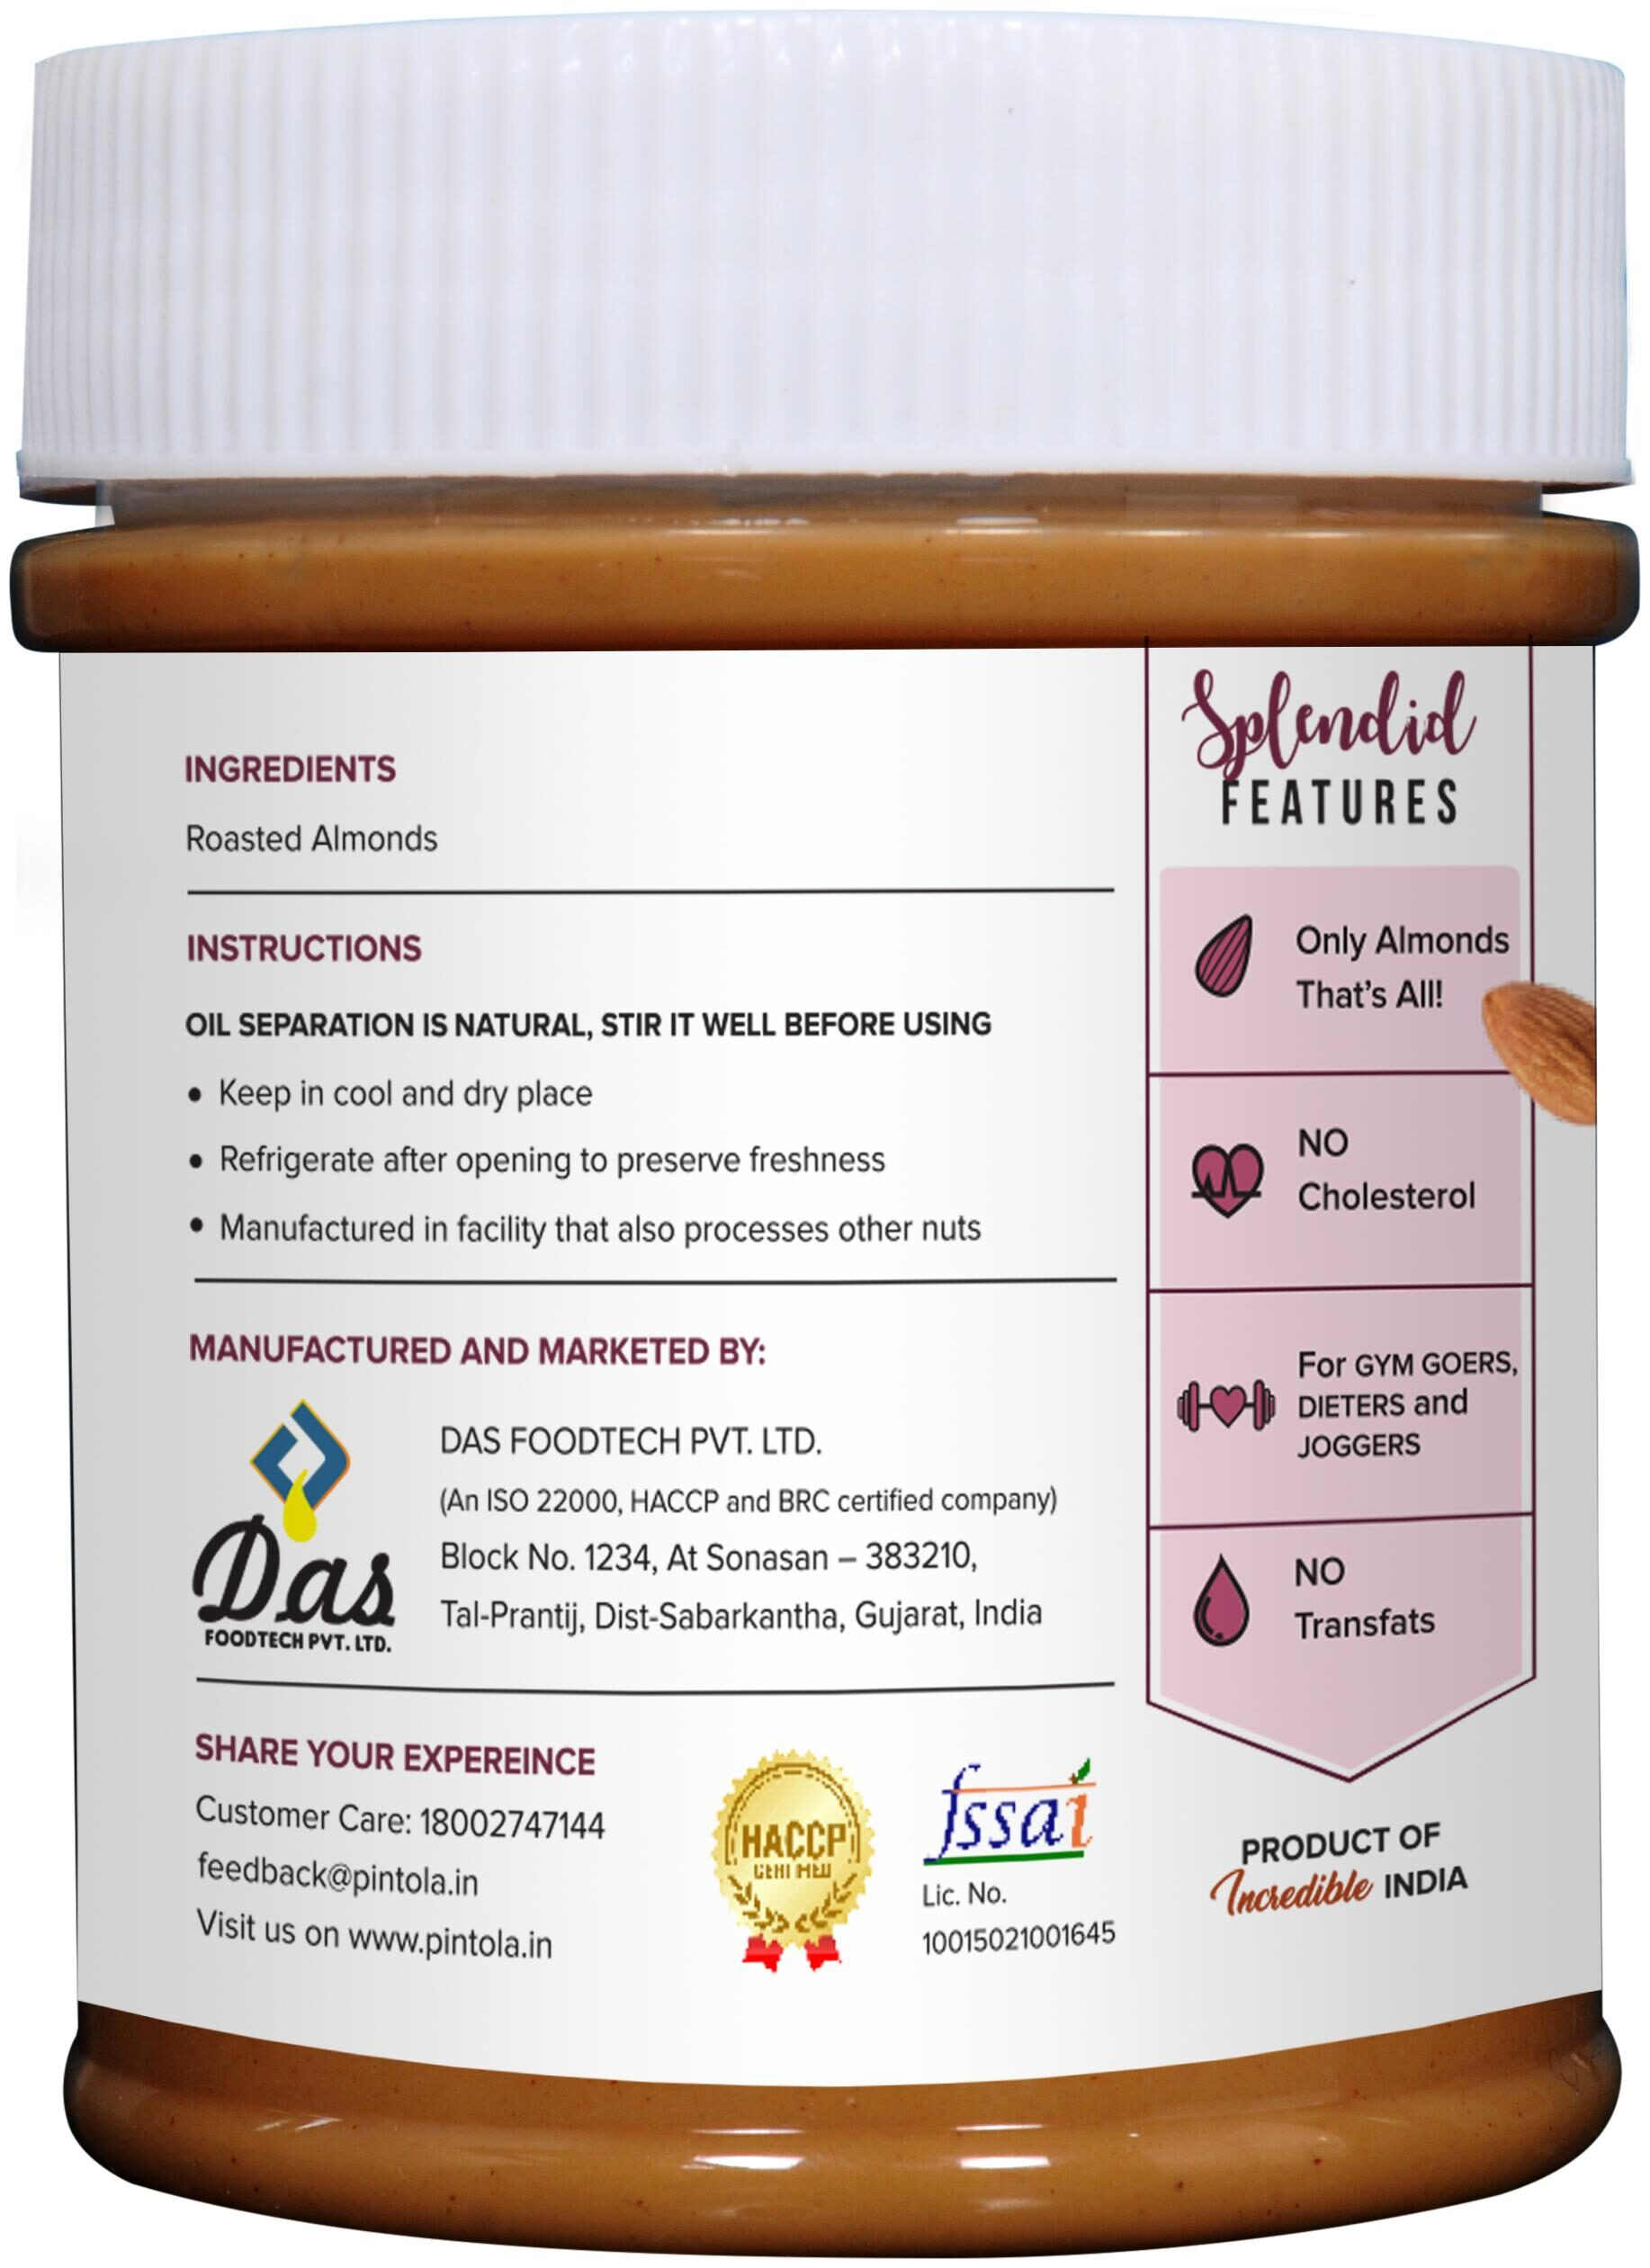fssai: (917, 1757, 1104, 1863)
